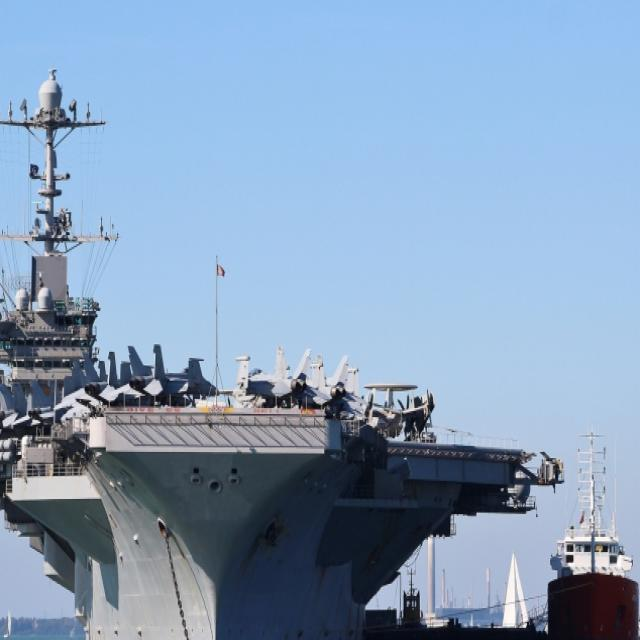Portanaves: (1, 61, 573, 640)
